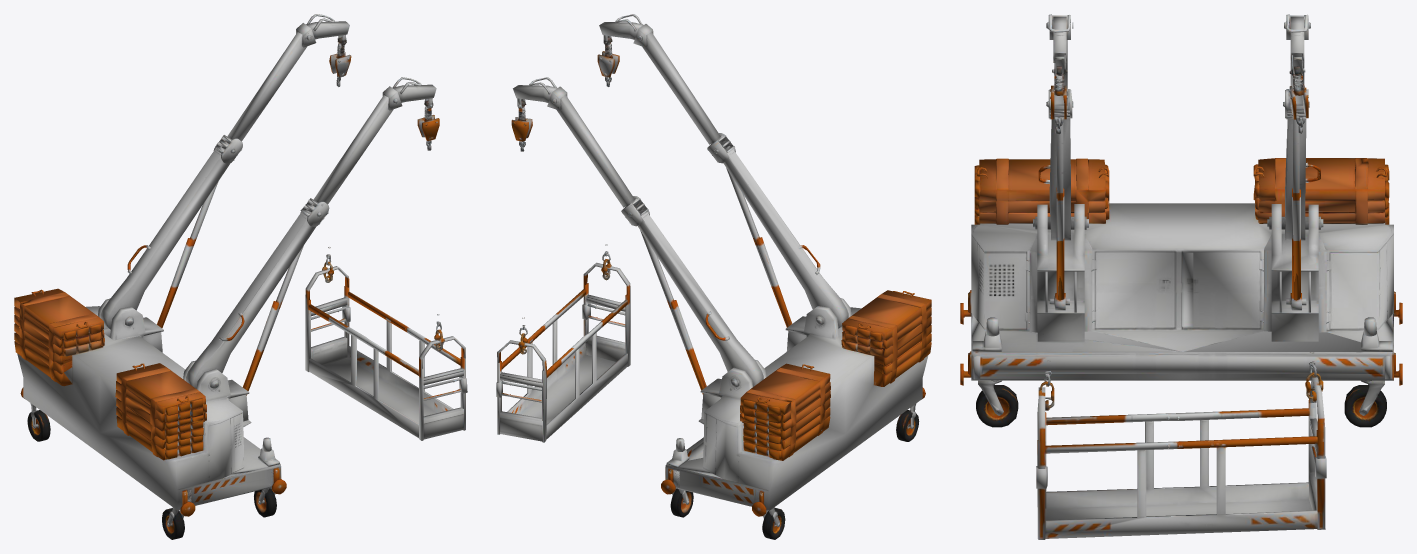
File: gondolaRig.glb
The picture shows the model from 3 angles, left to right: view 1: azimuth 30°, elevation 25°; view 2: azimuth 150°, elevation 25°; view 3: azimuth 270°, elevation 25°; orthographic projection. The views are drawn at different scales.
Parts seen in each view (by area): view 1: tripo_node_54aab7f9-cd07-46f9-9851-6cb92a3fbee8; view 2: tripo_node_54aab7f9-cd07-46f9-9851-6cb92a3fbee8; view 3: tripo_node_54aab7f9-cd07-46f9-9851-6cb92a3fbee8.
Boxes of the visible parts, left/top/right/bottom form: tripo_node_54aab7f9-cd07-46f9-9851-6cb92a3fbee8: left=14, top=14, right=467, bottom=539; tripo_node_54aab7f9-cd07-46f9-9851-6cb92a3fbee8: left=496, top=14, right=931, bottom=539; tripo_node_54aab7f9-cd07-46f9-9851-6cb92a3fbee8: left=960, top=14, right=1402, bottom=539.
Bounding box in the file's own units: 0.9043 × 0.998 × 0.7715.
Materials: 1 (1 with a texture image).
